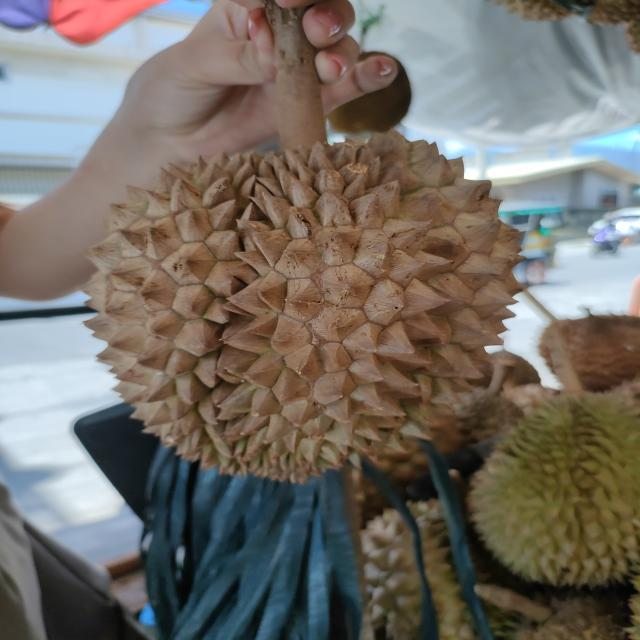mature: (83, 128, 535, 488)
